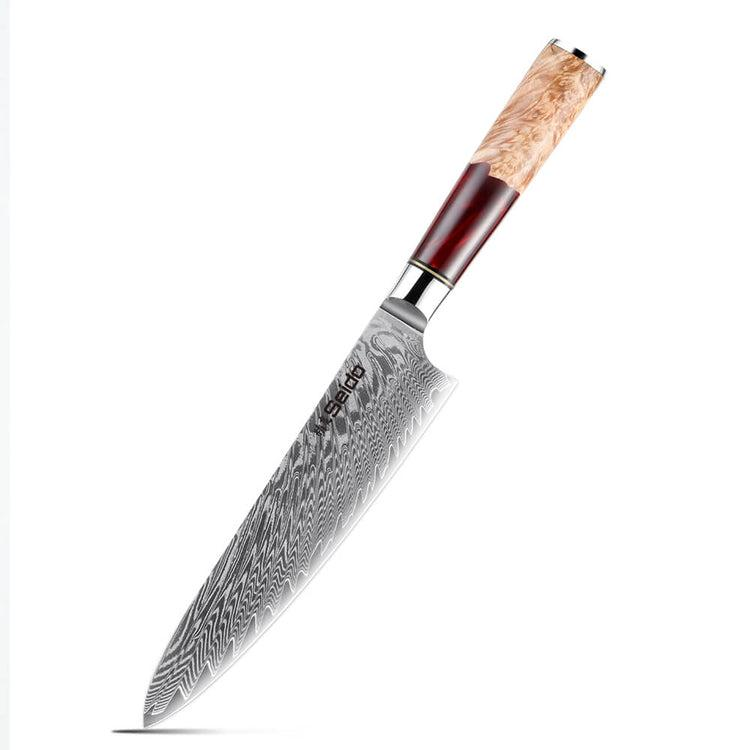Knife: (141, 36, 606, 727)
